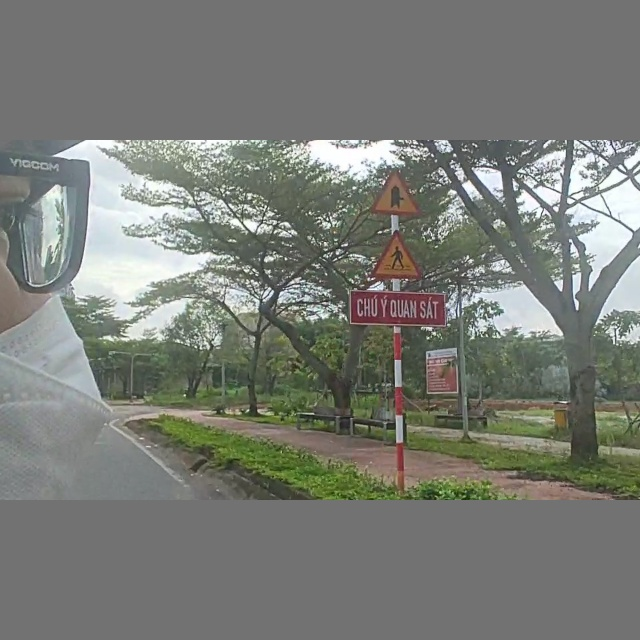W.207: (369, 168, 427, 218)
W.224: (365, 229, 429, 281)
